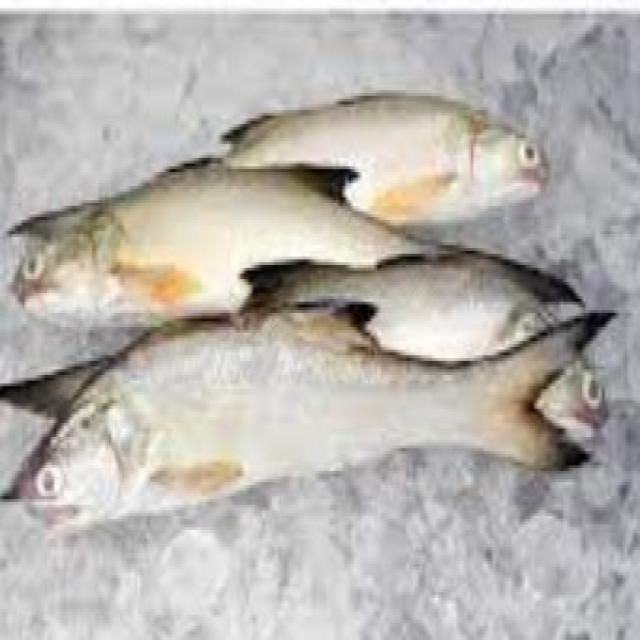Fourfinger-Threadfin: (0, 59, 619, 545)
